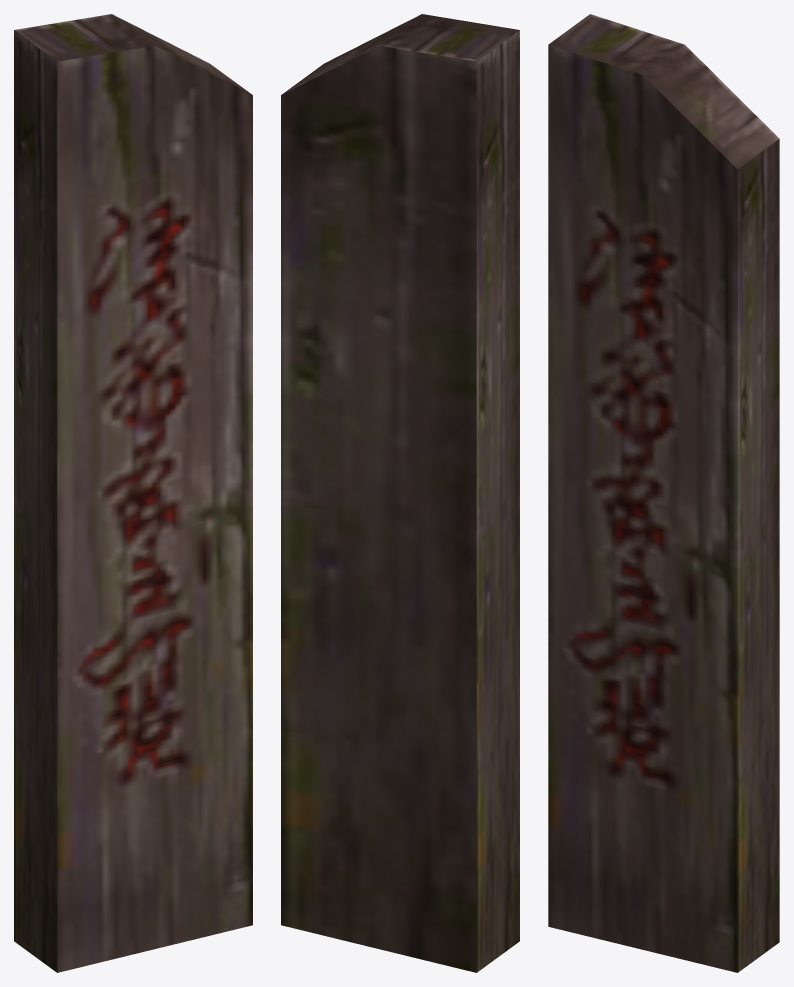
File: mubei_fd_60.FBX
3 views of the same model, side by side, from view 1: azimuth 30°, elevation 25°; view 2: azimuth 150°, elevation 25°; view 3: azimuth 330°, elevation 25° (orthographic). The views are drawn at different scales.
Parts seen in each view (by area): view 1: mubei_fd_60; view 2: mubei_fd_60; view 3: mubei_fd_60.
Part boxes in pixels (<box>): mubei_fd_60: <box>14,14,252,972</box>; mubei_fd_60: <box>281,14,519,972</box>; mubei_fd_60: <box>548,14,779,972</box>.
Size of what is drawn, in the model's own units: 28.55 by 127 by 10.93.
